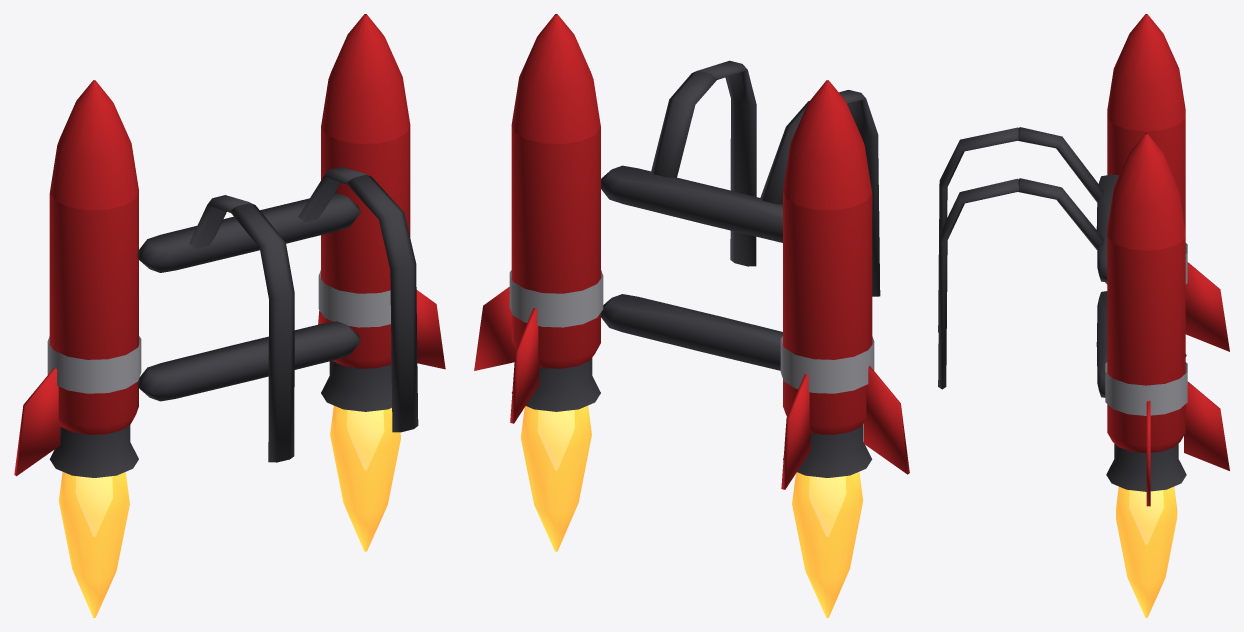
File: back_rocket.glb
3 views of the same model, side by side, from view 1: azimuth 30°, elevation 25°; view 2: azimuth 150°, elevation 25°; view 3: azimuth 270°, elevation 25° (orthographic). The views are drawn at different scales.
Parts seen in each view (by area): view 1: back_rocket_q, back_rocket_front_q; view 2: back_rocket_q, back_rocket_front_q; view 3: back_rocket_q, back_rocket_front_q.
Part boxes in pixels (left/top/right/bottom): back_rocket_q: left=14, top=14, right=445, bottom=617; back_rocket_front_q: left=230, top=174, right=418, bottom=462; back_rocket_q: left=474, top=14, right=909, bottom=617; back_rocket_front_q: left=698, top=60, right=880, bottom=296; back_rocket_q: left=1018, top=14, right=1229, bottom=617; back_rocket_front_q: left=938, top=127, right=1018, bottom=389.
Bounding box in the file's own units: 3.34 × 3.97 × 2.17.
